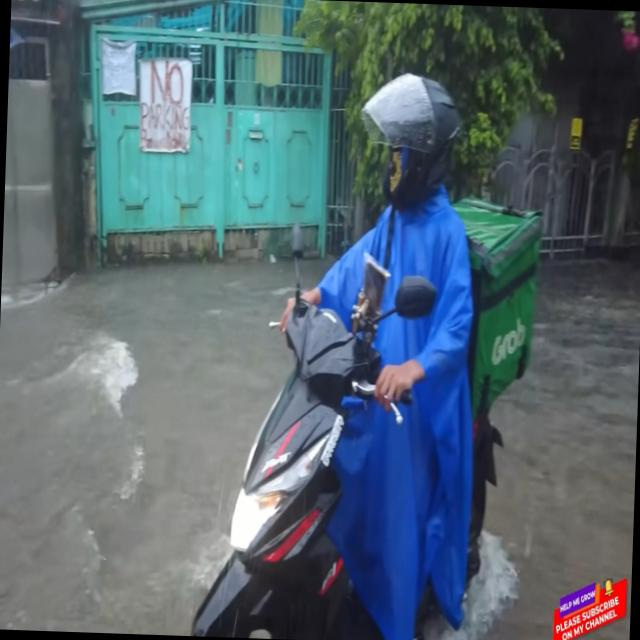half: (353, 66, 471, 216)
